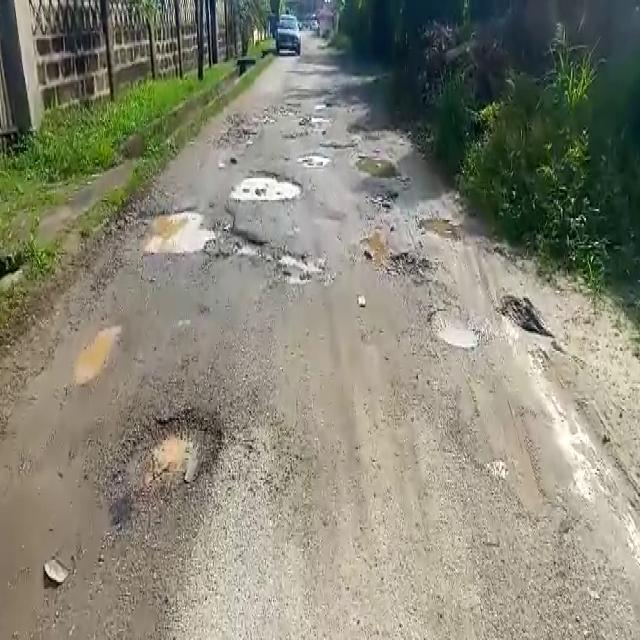Pothole: (134, 410, 226, 498), (250, 237, 328, 285), (142, 208, 218, 256), (227, 168, 305, 200), (428, 311, 484, 349), (298, 150, 333, 164)
